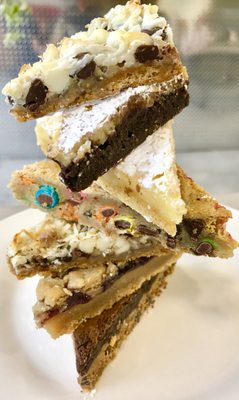soup: (4, 16, 237, 395)
